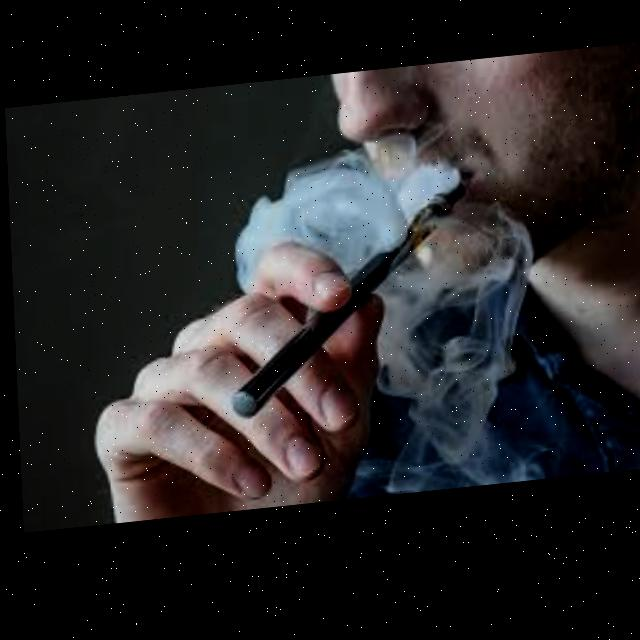vape: (220, 178, 468, 422)
